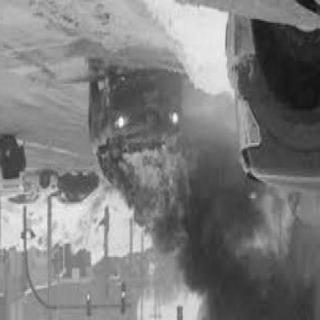Fire: (117, 143, 203, 259)
Smoke: (194, 208, 320, 320)
other: (230, 56, 320, 204)
